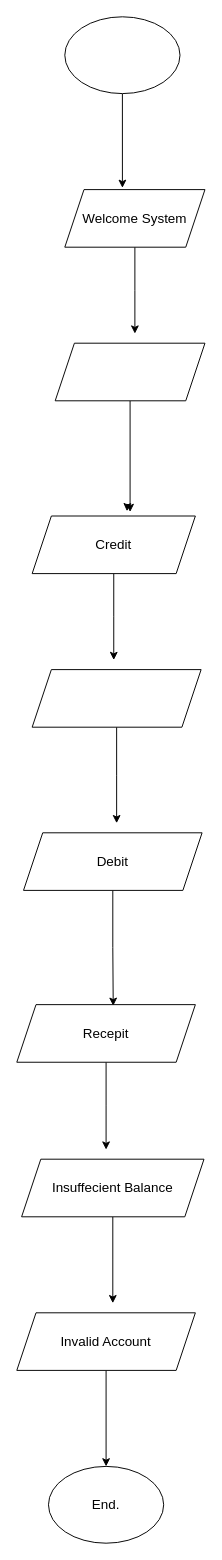
Image size: 222x1560. Some labels were removed from this diagram. Each missing label, with the centre of its shape:
"Balance" belongs at (x=116, y=698).
"Start" belongs at (x=122, y=55).
"Transaction Options" belongs at (x=129, y=371).
